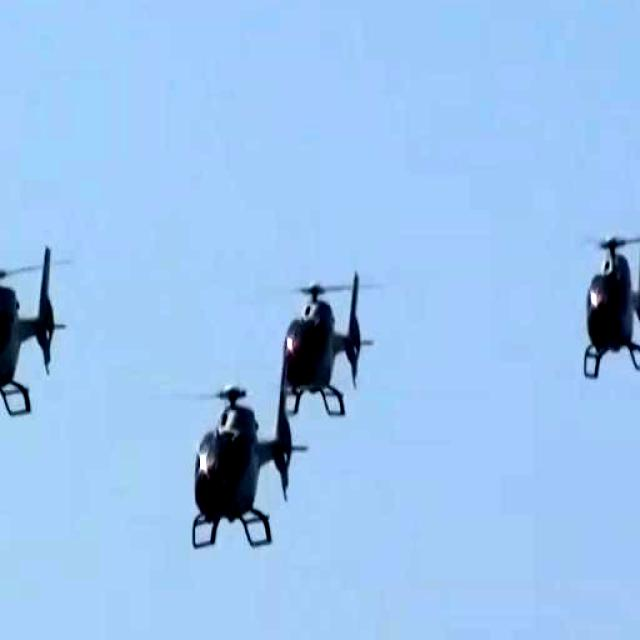drone: (182, 368, 311, 588), (259, 222, 378, 431), (548, 190, 640, 384), (0, 226, 69, 436)
